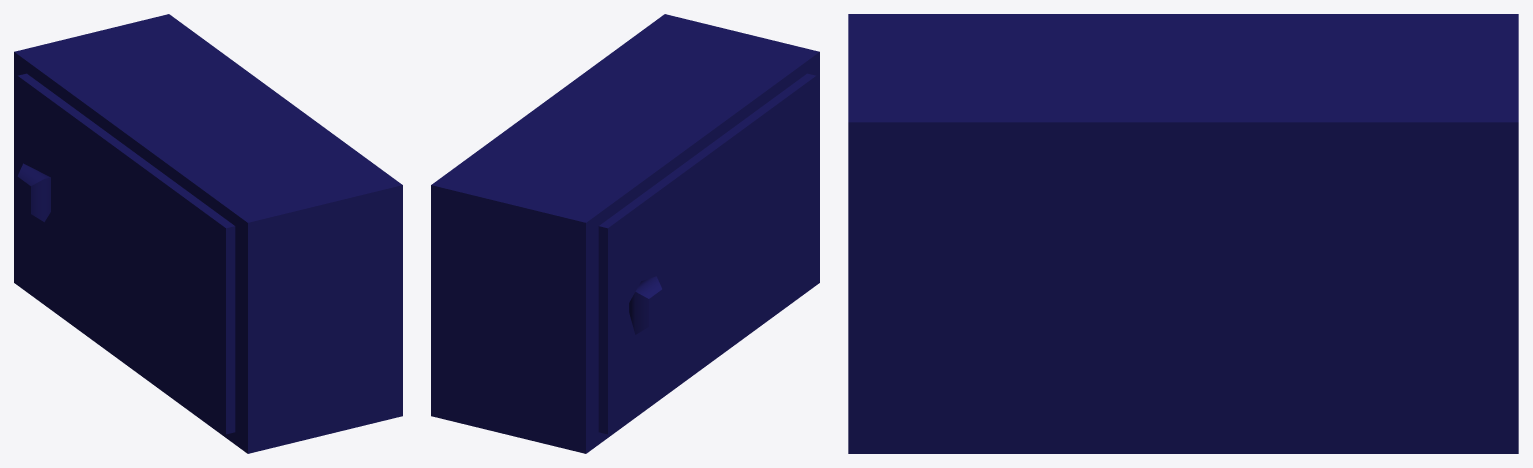
File: Cupboard.obj
3 views of the same model, side by side, from view 1: azimuth 30°, elevation 25°; view 2: azimuth 150°, elevation 25°; view 3: azimuth 270°, elevation 25° (orthographic). The views are drawn at different scales.
Visible parts, largest first — view 1: pCube11; view 2: pCube11; view 3: pCube11.
Part boxes in pixels (bbox=[...]): pCube11: bbox=[14, 14, 402, 453]; pCube11: bbox=[431, 14, 819, 453]; pCube11: bbox=[848, 14, 1518, 453].
Size of the model in its own units: 3.64 by 4.36 by 7.99.
